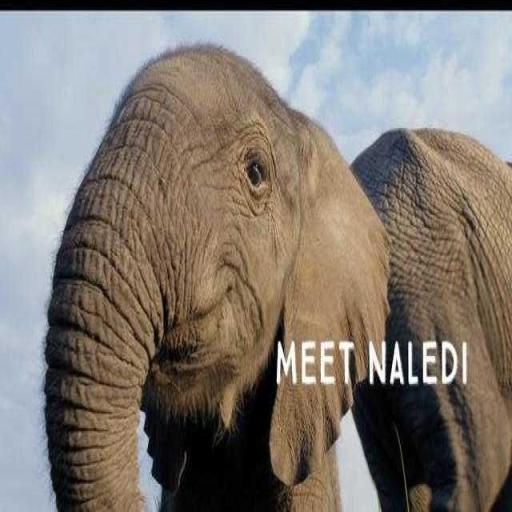Elephant: (42, 40, 510, 510), (347, 124, 511, 510)
